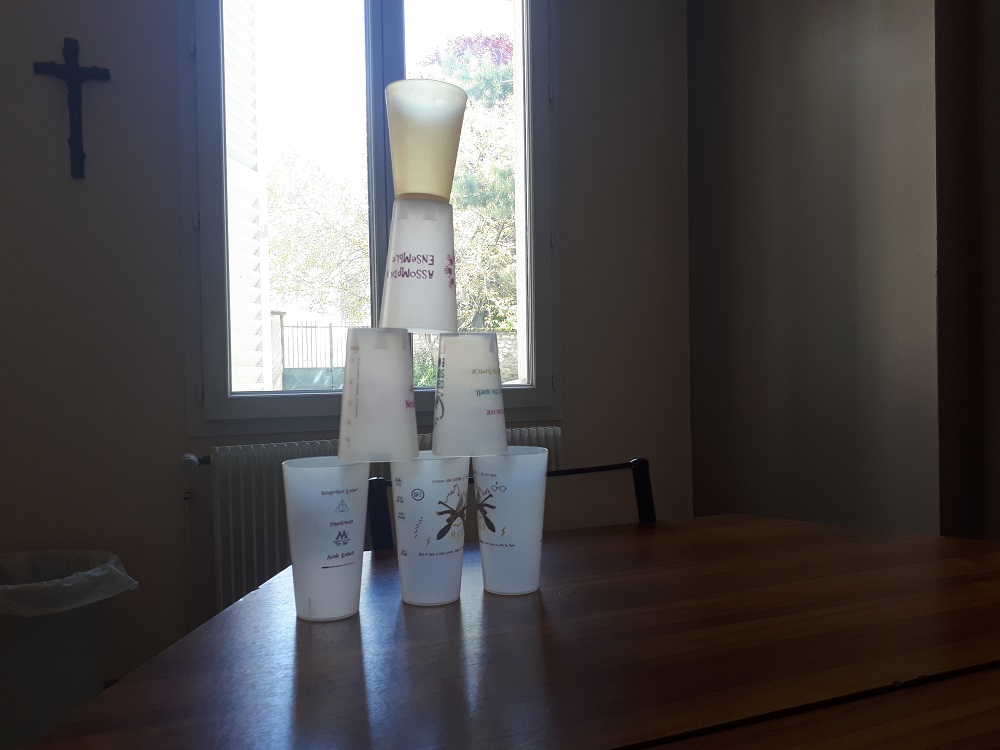ecocup: (281, 456, 369, 624), (388, 450, 471, 606), (471, 446, 549, 597), (379, 192, 462, 332), (338, 326, 422, 462), (429, 331, 512, 458), (386, 76, 466, 201)
